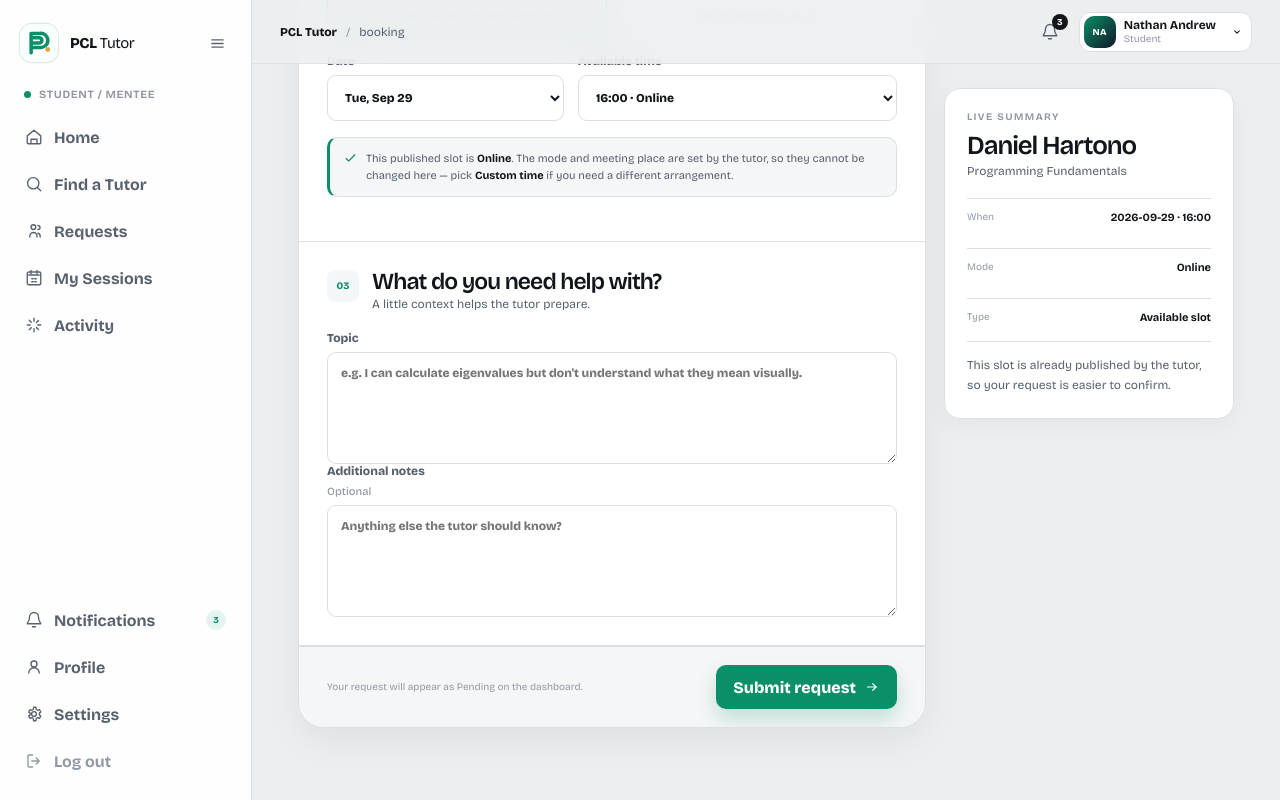
Test: booking a published slot › keeps the validation on the form rather than the review step
(page scrolled)
An empty topic is refused before any review step is offered.
Step 1. Click the button "Submit request" → [807, 687], box [716,665,897,709]
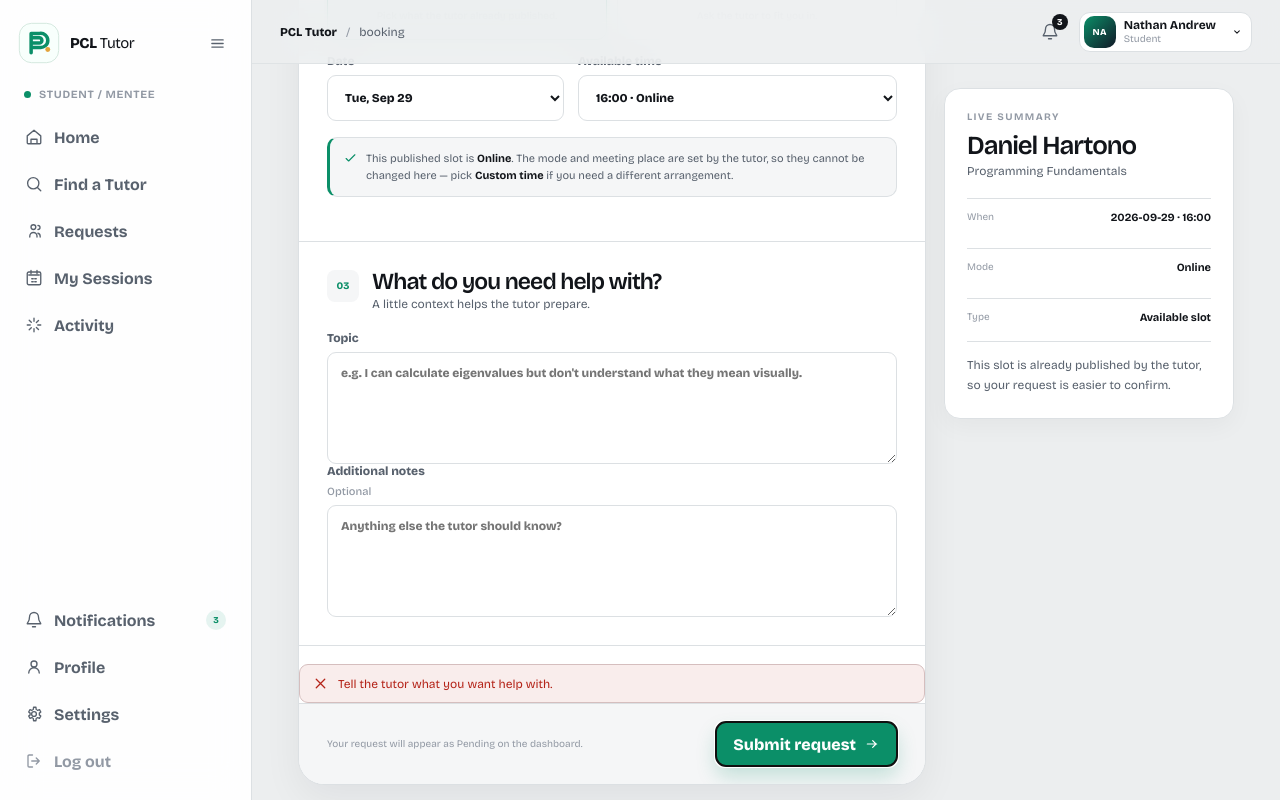
Result: the text "Tell the tutor what you want help with." is shown at [338,677,552,691]
